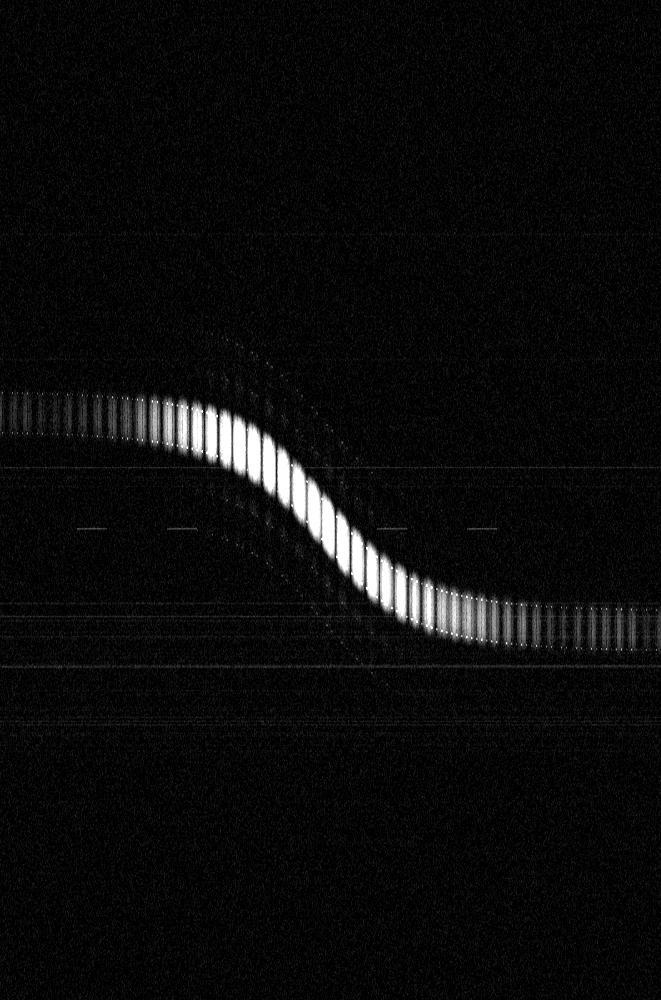signal: (0, 0, 660, 999)
